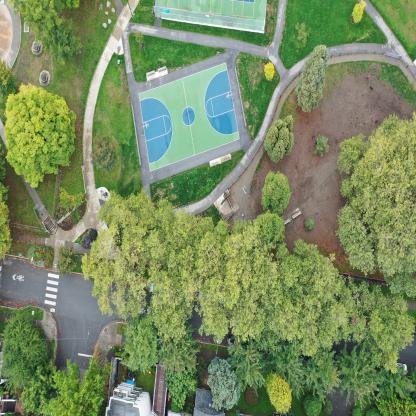Coniferous Tree: (0, 308, 49, 393), (294, 43, 331, 112), (340, 348, 377, 406), (124, 322, 160, 374), (304, 354, 340, 406), (206, 358, 238, 410), (232, 346, 264, 398), (275, 342, 304, 397), (46, 16, 82, 57), (265, 114, 295, 162), (163, 339, 198, 377), (266, 372, 296, 414), (258, 175, 290, 213), (383, 370, 415, 400), (91, 133, 117, 169), (313, 133, 331, 160), (304, 214, 315, 230)
Deciduous Tree: (338, 107, 416, 290), (282, 234, 371, 346), (215, 218, 281, 336), (3, 86, 78, 186), (89, 204, 152, 323), (150, 215, 212, 333), (372, 290, 414, 363), (352, 0, 366, 30), (263, 58, 278, 81)
